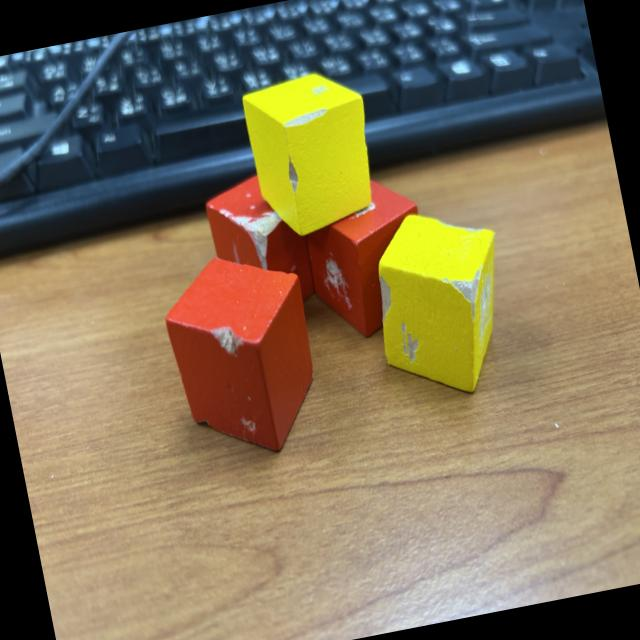broken: (156, 241, 332, 468), (360, 200, 526, 409), (295, 167, 440, 347), (240, 66, 386, 244), (201, 162, 330, 318)
